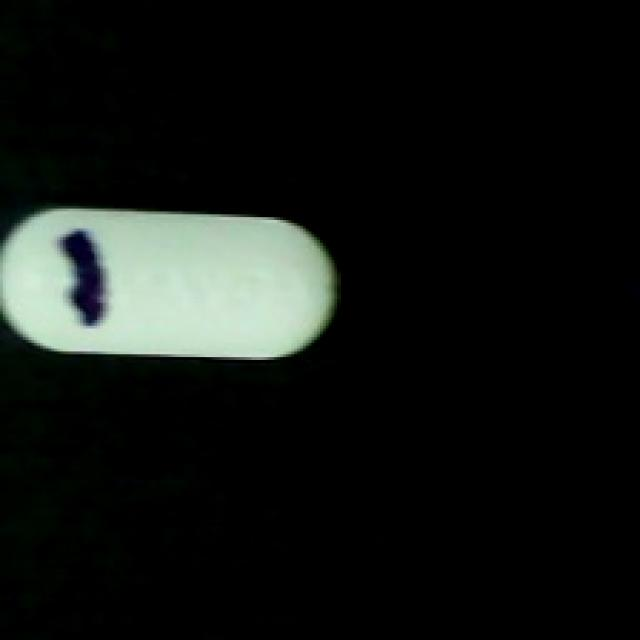defected: (0, 200, 346, 363)
